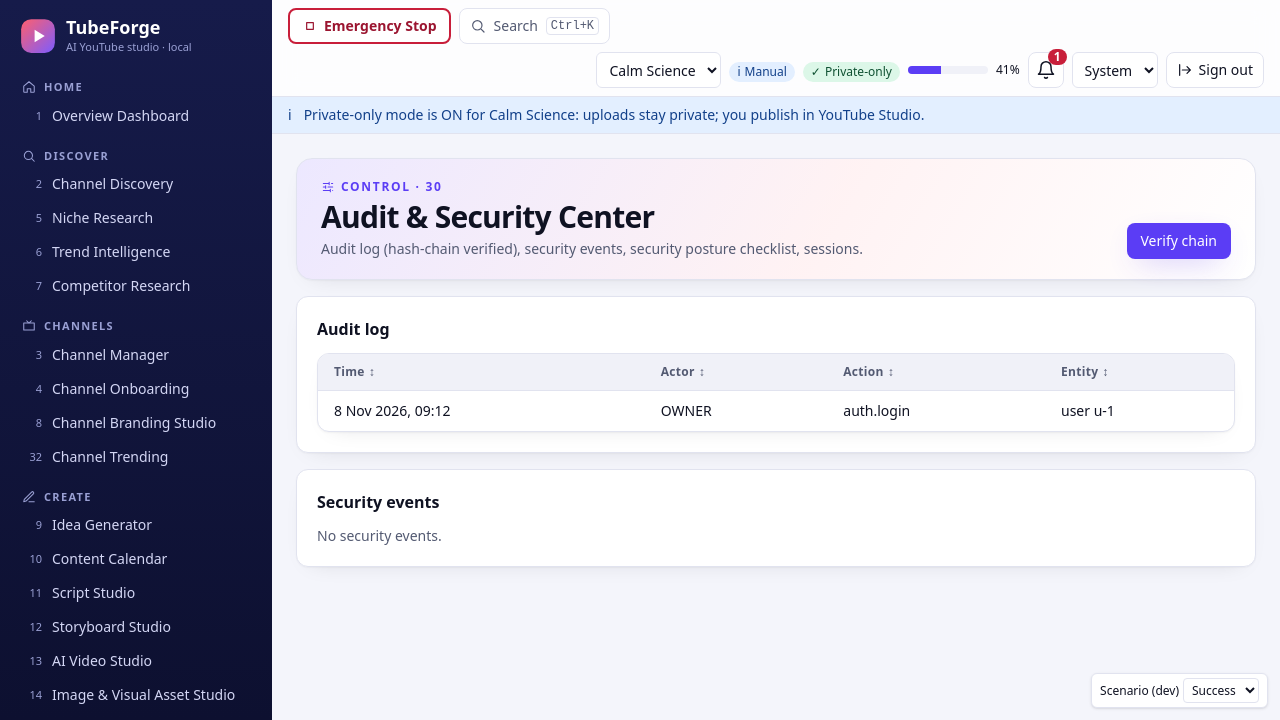
Test: app shell › Security verifies the audit chain
Expected: the element with test id "state-success" is shown, [296,296,1256,567]
Expected: the text "auth.login" is shown, [843,401,910,420]
Click the button with test id "verify-chain": click(1179, 241) [1126,223,1231,259]
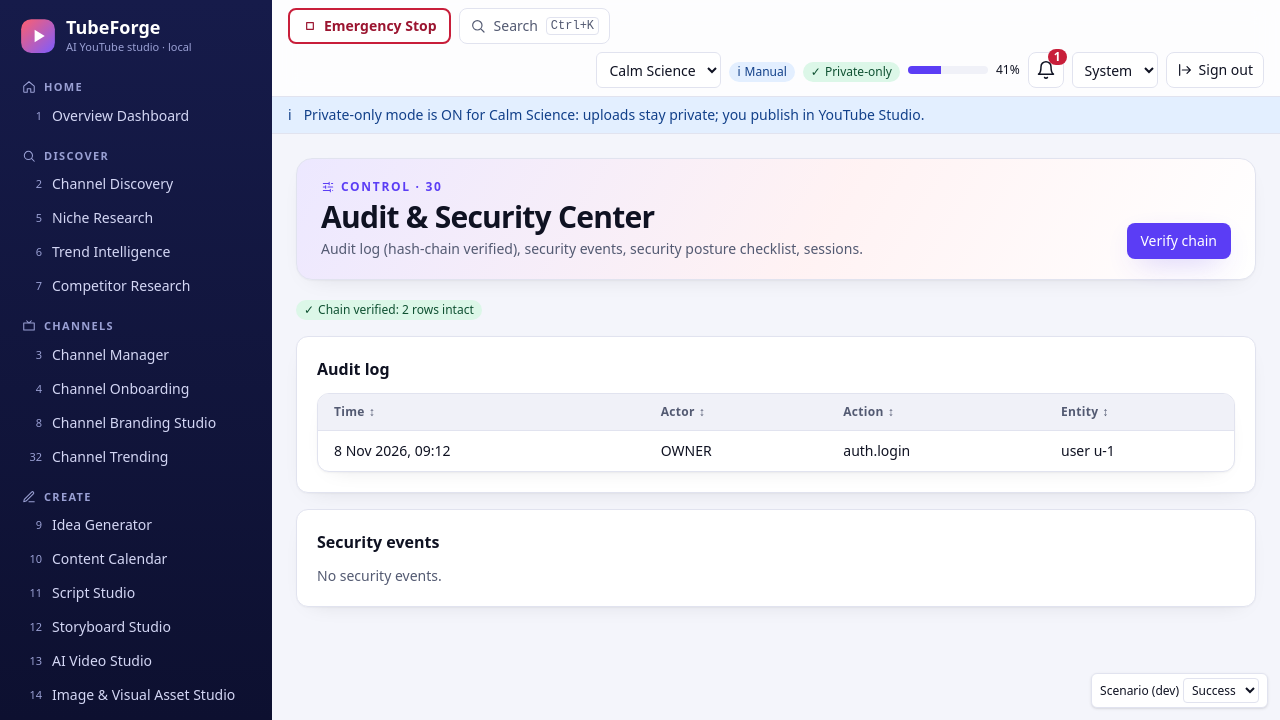
Now the message with test id "chain-result" shows "2 rows intact", box [318,301,474,318]
